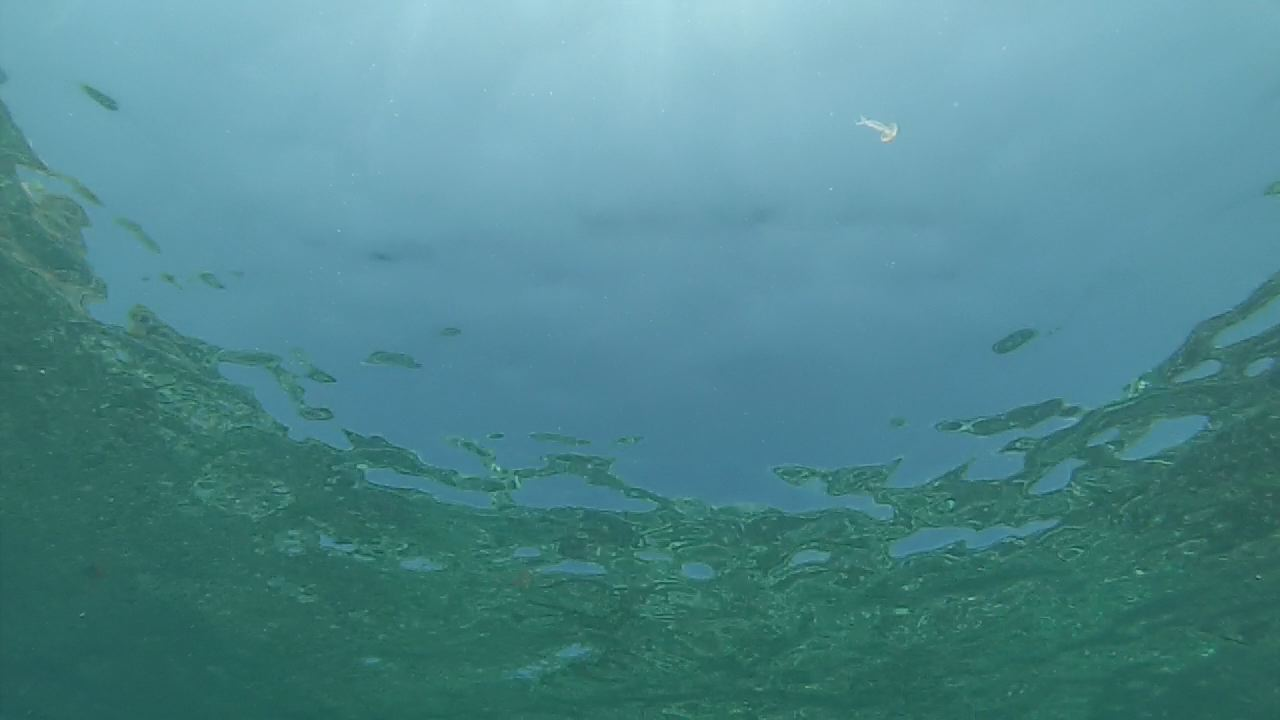pelagia: (850, 109, 902, 148)
